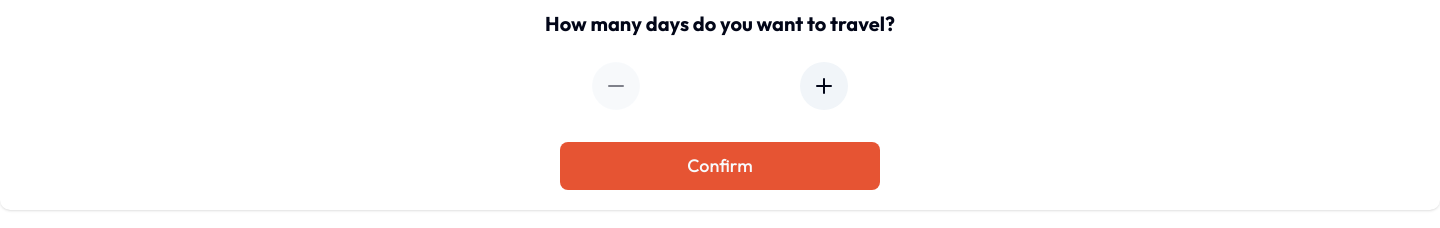
Scenario: Trip planning UI components & accessibility › Duration increments/decrements days via accessible buttons and confirms
Later steps or results of the test are not shown.
Expected: the button named "Decrease trip duration" is disabled, [592, 62, 640, 110]
What coordinates should you click on to do the following:
click the button named "Increase trip duration"
I would click on:
 (824, 86)
Its box is [800, 62, 848, 110].
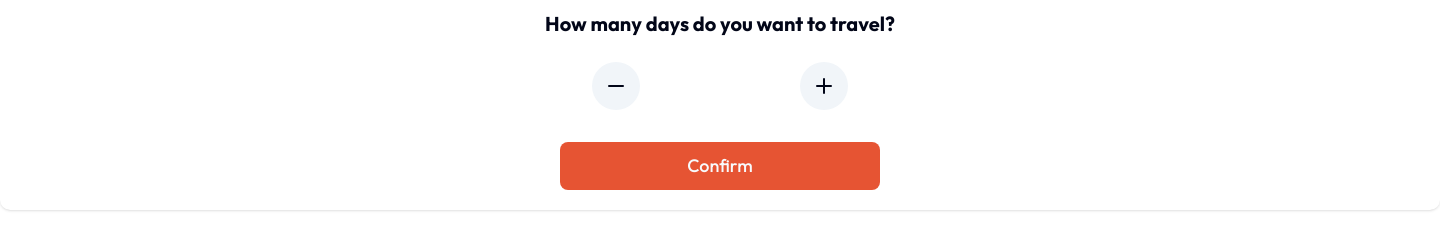
Expected: the button named "Decrease trip duration" is enabled, [592, 62, 640, 110]
